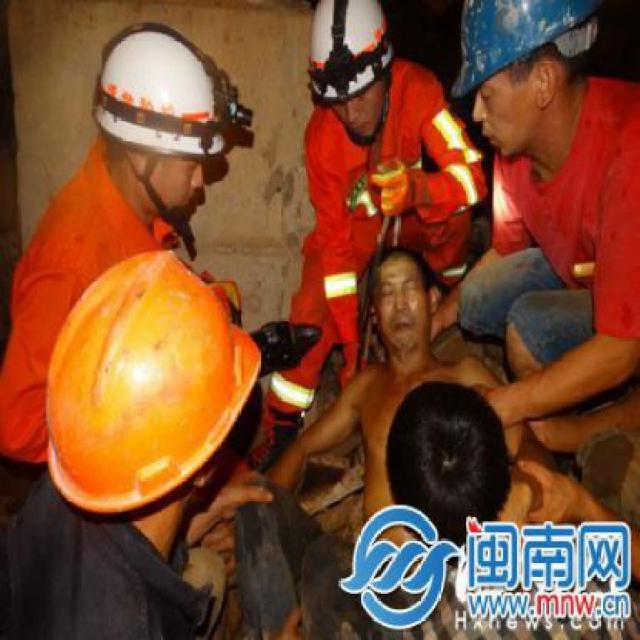fall: (280, 222, 551, 624)
